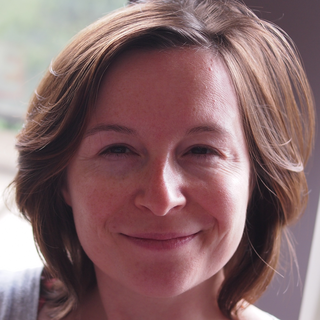eye: (176, 140, 224, 164), (94, 140, 144, 163)
